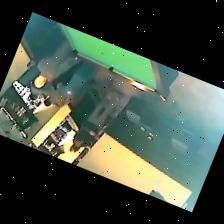person: (69, 97, 118, 151), (34, 39, 79, 86)
